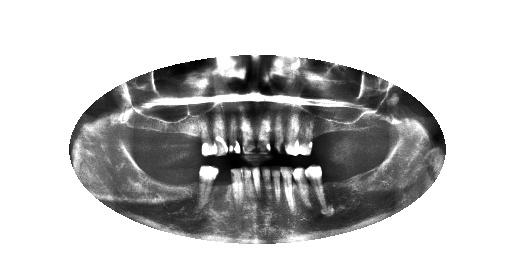Cavity: (276, 116, 285, 155)
